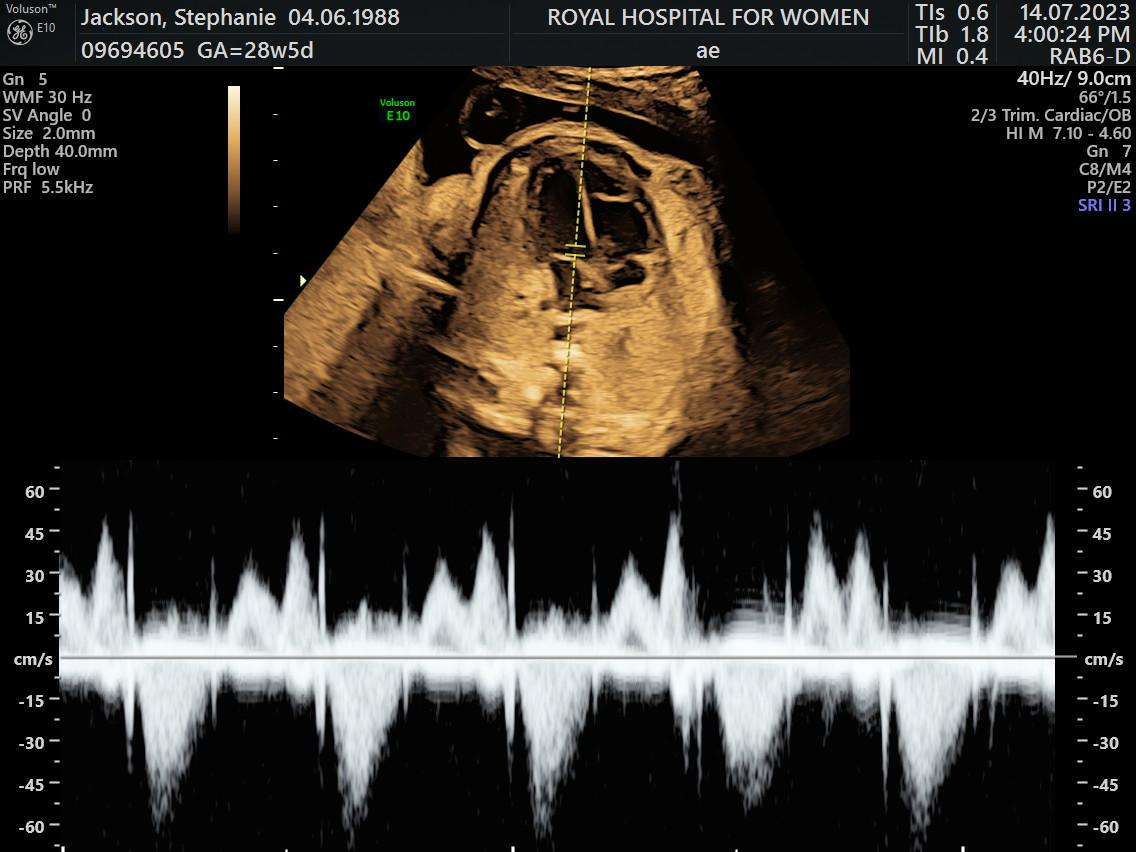Ultrasound-Waves: (62, 463, 1076, 849)
